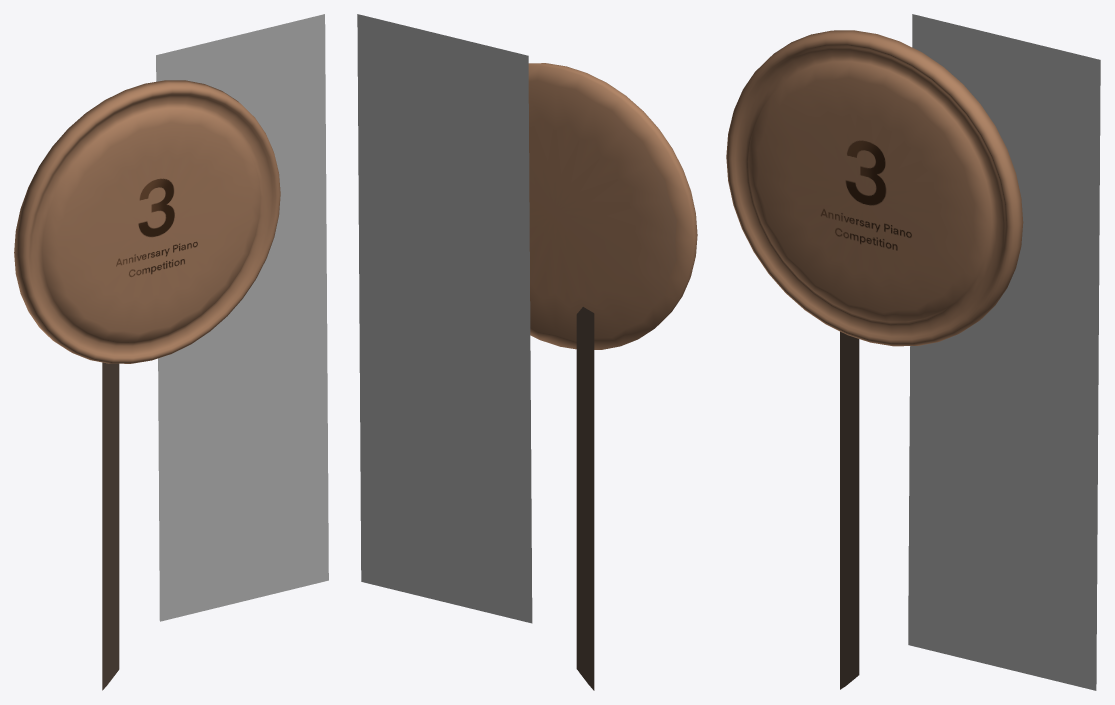
The model's file is 3rdmedal 1.fbx.
3 views of the same model, side by side, from view 1: azimuth 30°, elevation 25°; view 2: azimuth 150°, elevation 25°; view 3: azimuth 330°, elevation 25° (orthographic). The views are drawn at different scales.
Parts seen in each view (by area): view 1: pPlane6, pCylinder2, pPlane7; view 2: pPlane6, pCylinder2, pPlane7; view 3: pPlane6, pCylinder2, pPlane7.
Part boxes in pixels (x1,y1,x2,y2): pPlane6: (156,14,328,621); pCylinder2: (14,80,280,363); pPlane7: (102,362,119,690); pPlane6: (357,14,532,623); pCylinder2: (528,63,697,349); pPlane7: (576,307,594,690); pPlane6: (908,14,1100,690); pCylinder2: (726,30,1023,346); pPlane7: (840,331,859,689).
Size of the model in its own units: 4.85 by 8.9 by 0.553.
3 materials, 1 textured.
